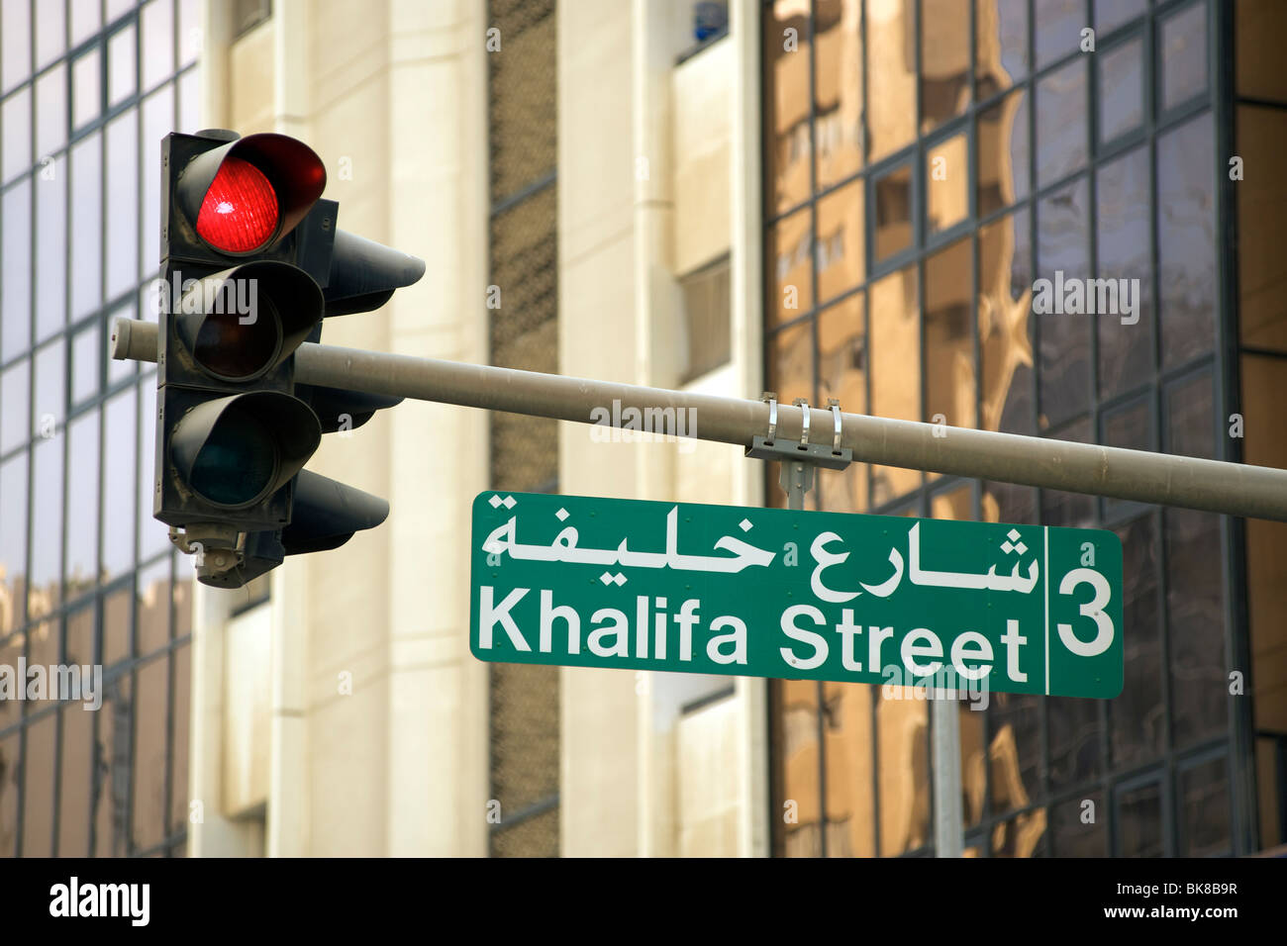red: (159, 132, 302, 530)
